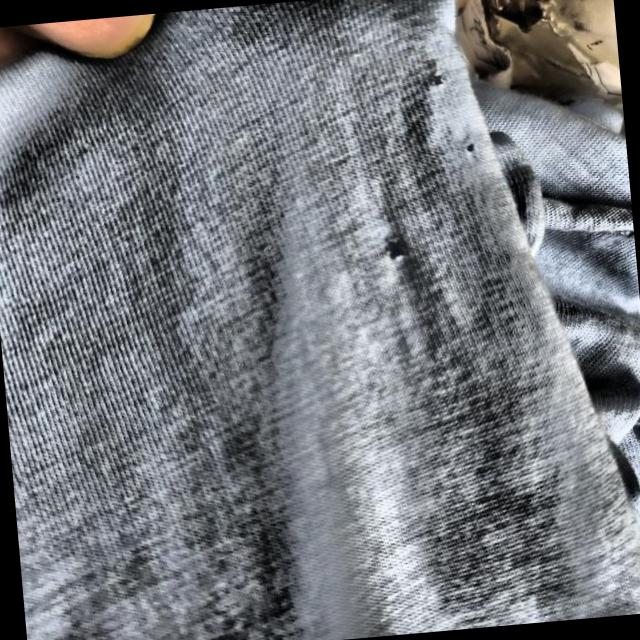cut: (406, 51, 456, 94), (373, 233, 422, 272), (448, 134, 486, 162)
